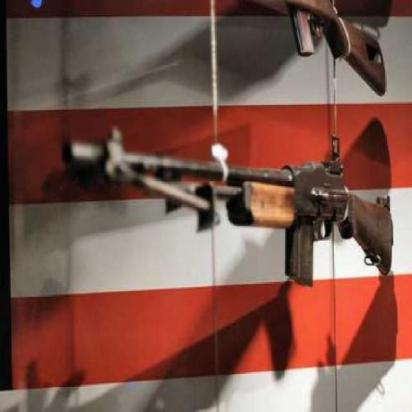Gun: (54, 116, 398, 307)
